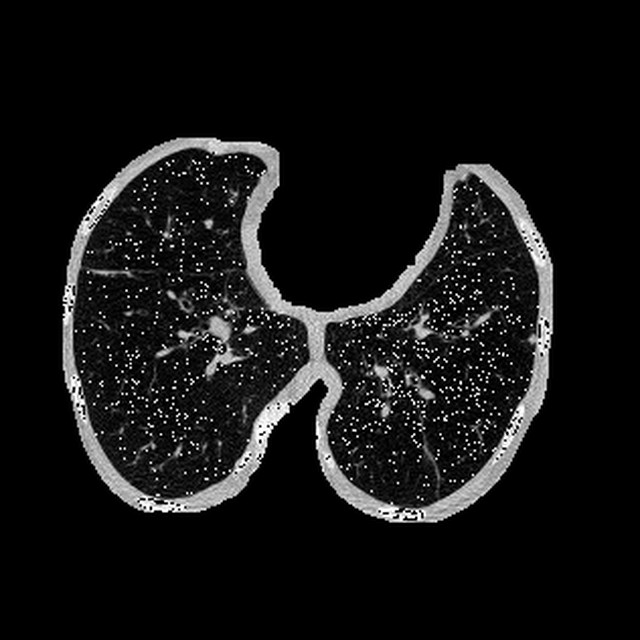PN: (527, 336, 535, 344)
